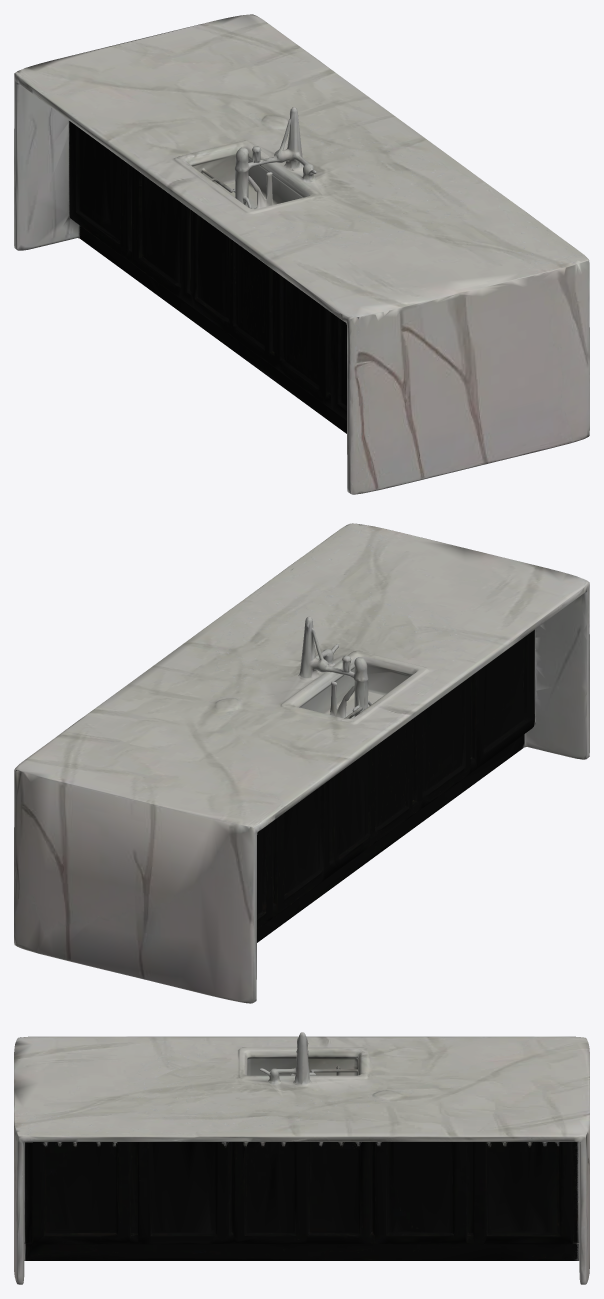
The picture shows the model from 3 angles, top to bottom: view 1: azimuth 30°, elevation 25°; view 2: azimuth 150°, elevation 25°; view 3: azimuth 270°, elevation 25°; orthographic projection. The views are drawn at different scales.
Parts seen in each view (by area): view 1: material; view 2: material; view 3: material.
Part boxes in pixels (x1,y1,x2,y2): material: (14,14,589,494); material: (14,523,589,1003); material: (14,1032,589,1284).
Size of the model in its own units: 0.4356 by 0.4088 by 1.06.
Materials: 1 (1 with a texture image).
